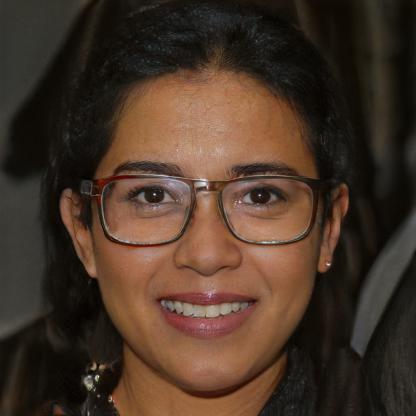glasses: (86, 170, 322, 252)
